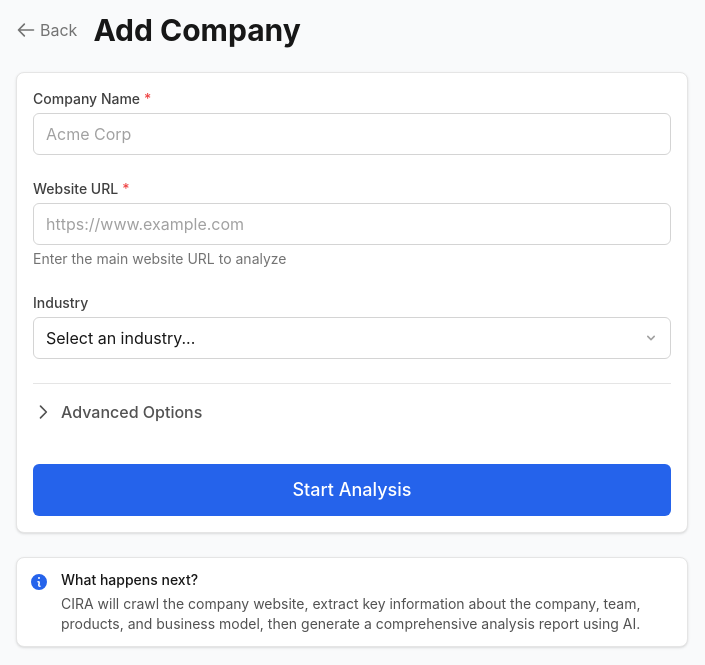
Test: AddCompany Form Validation › auto-normalizes URL on blur
Enter URL without protocol
In the field labelled "Website URL*": (352, 224) [33, 203, 671, 245], type "example.com"
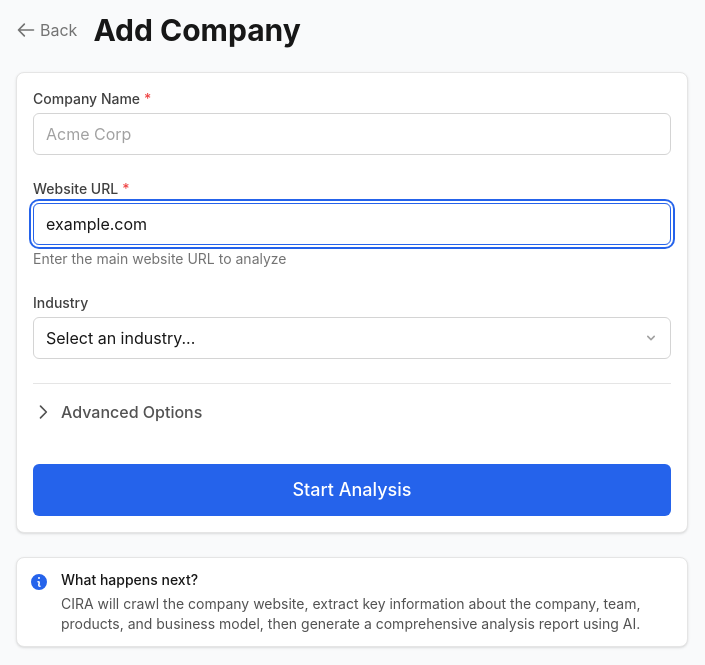
Blur the field
Press Tab
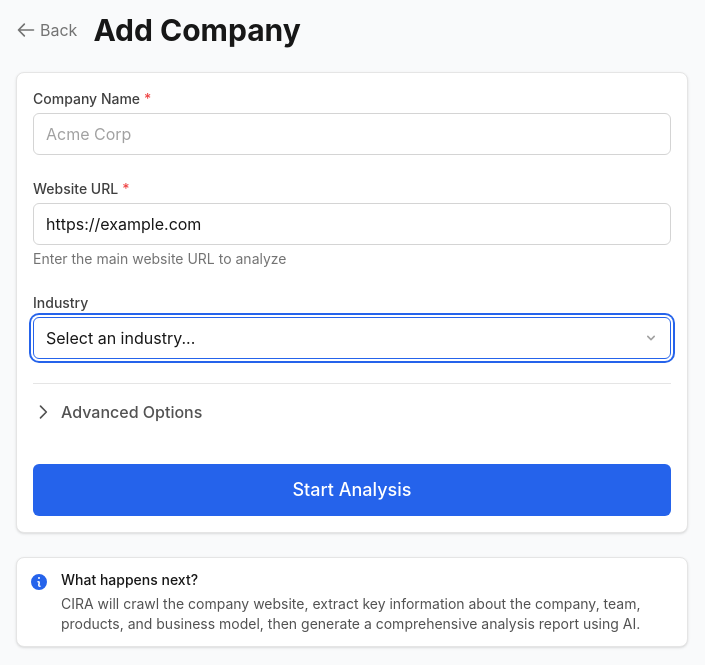
Check: the field labelled "Website URL*" holds "https://example.com", box [33, 203, 671, 245]
